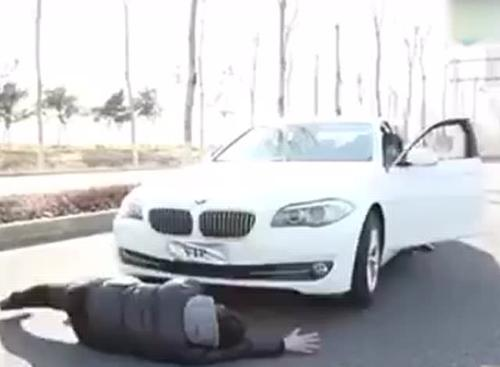fall: (2, 260, 323, 363)
